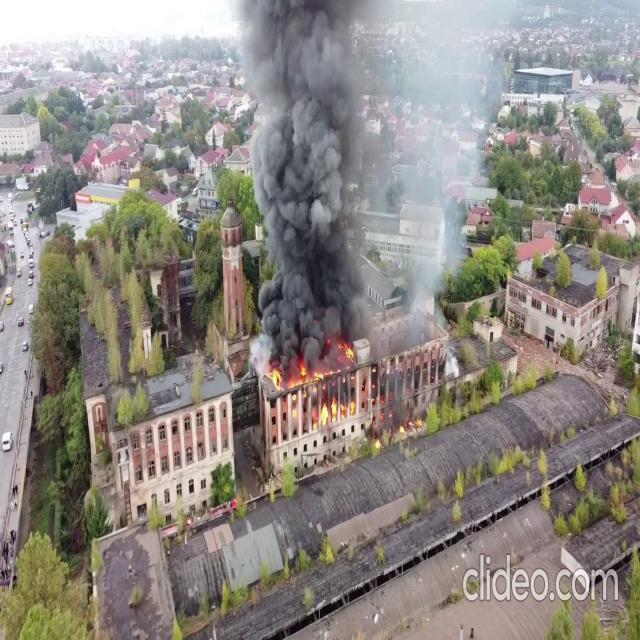Smoke: (235, 1, 404, 368)
